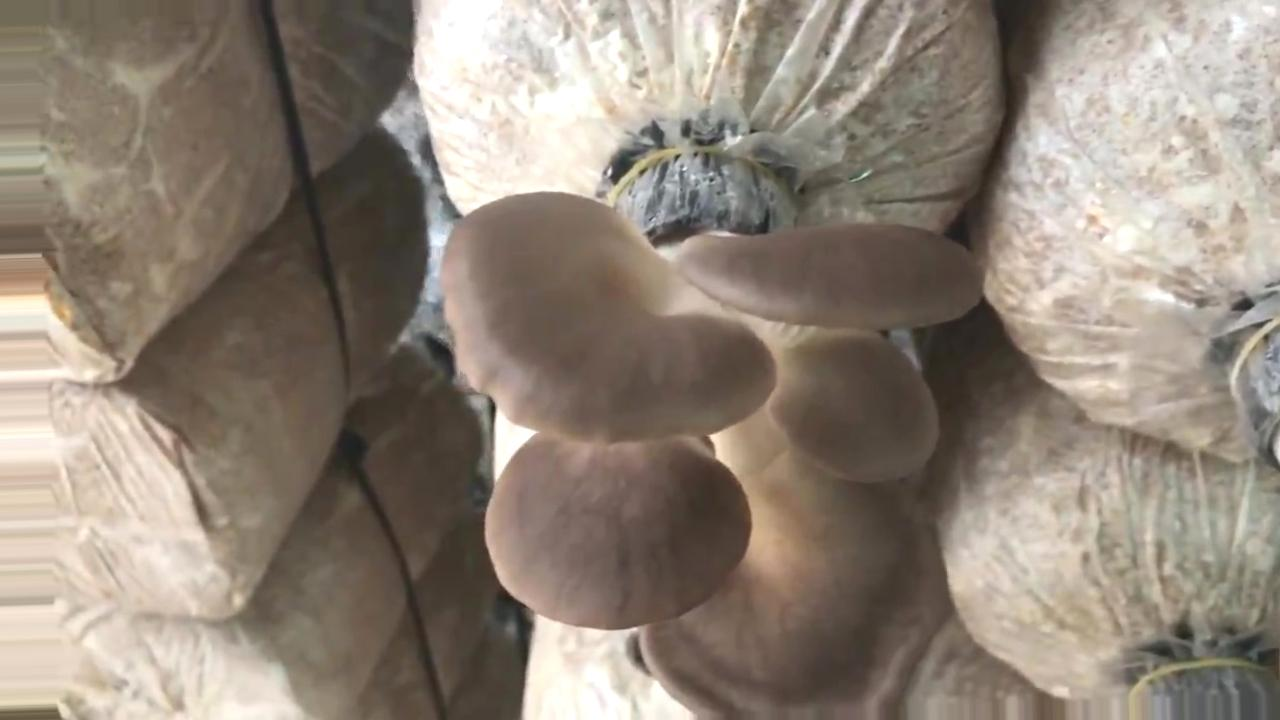nam: (447, 152, 987, 720)
